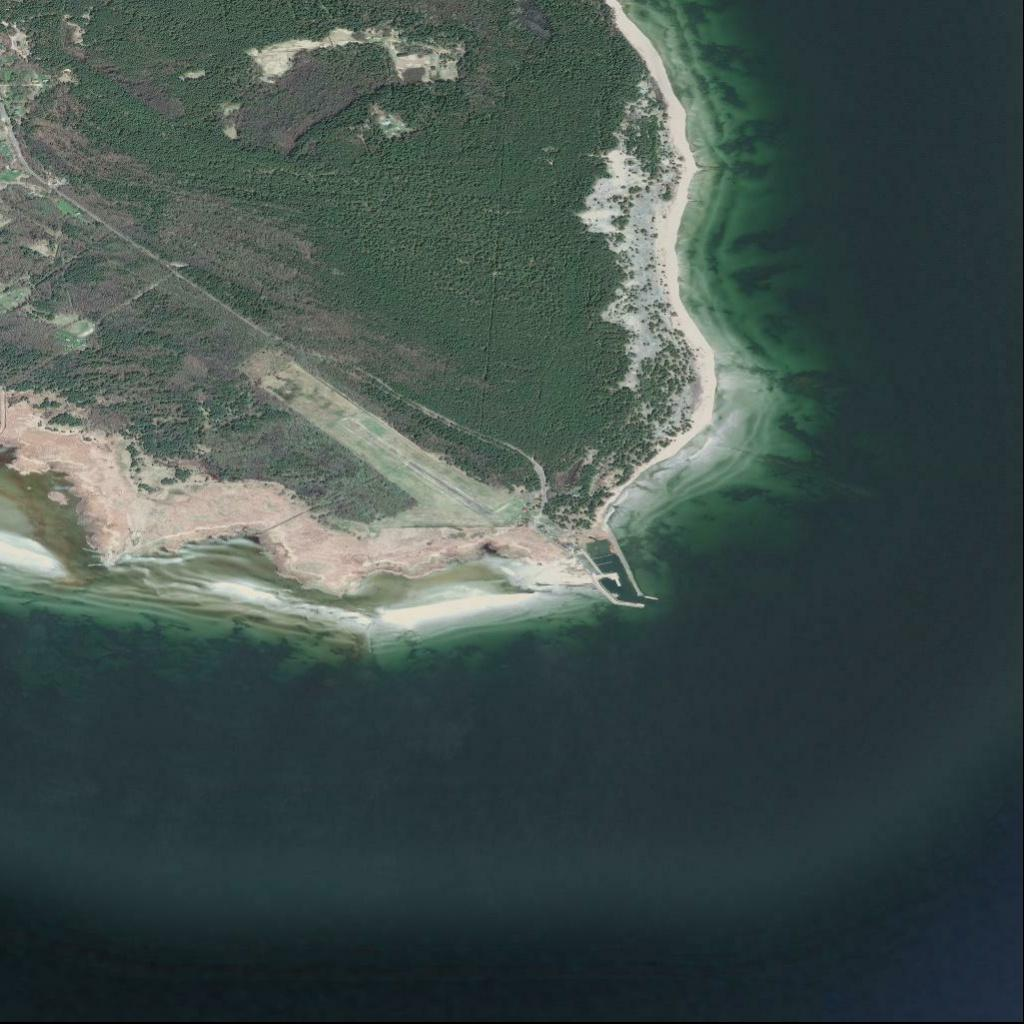harbor: (617, 552, 661, 603), (589, 583, 649, 616), (607, 572, 628, 589)
